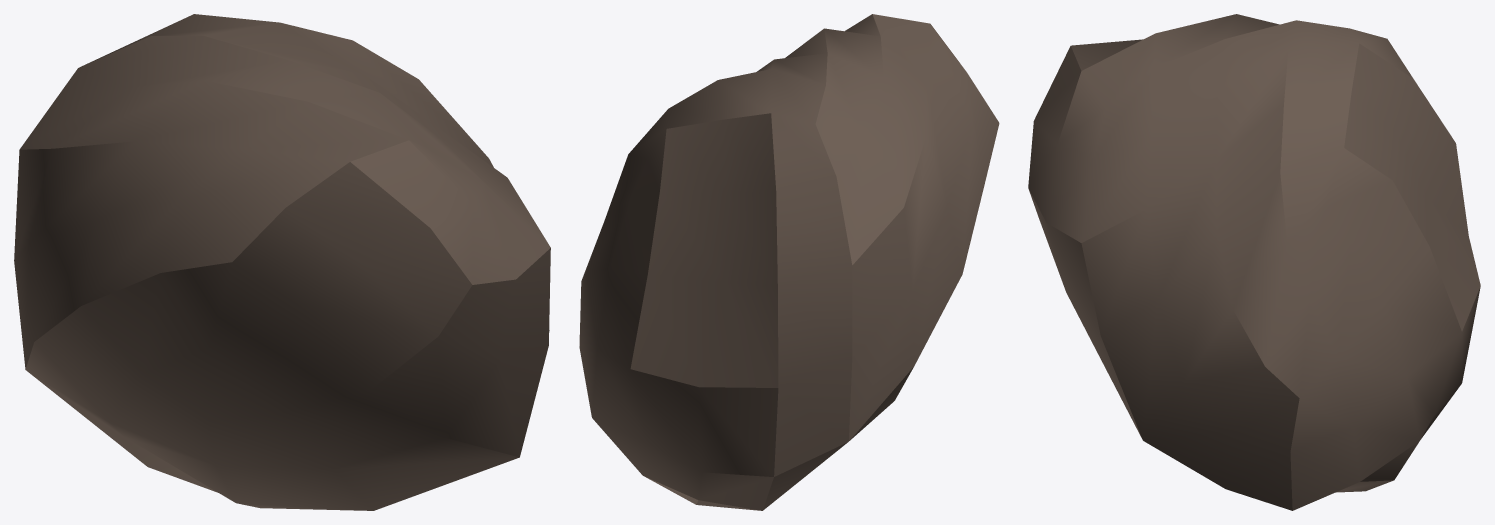
File: rock_0.glb
The picture shows the model from 3 angles, left to right: view 1: azimuth 30°, elevation 25°; view 2: azimuth 150°, elevation 25°; view 3: azimuth 270°, elevation 25°; orthographic projection. The views are drawn at different scales.
Parts seen in each view (by area): view 1: rock.004; view 2: rock.004; view 3: rock.004.
Boxes of the visible parts, x1,y1,x2,y2 form: rock.004: (14, 14, 550, 510); rock.004: (579, 14, 999, 510); rock.004: (1028, 14, 1480, 510).
Size of the model in its own units: 2.31 by 2.56 by 2.48.
